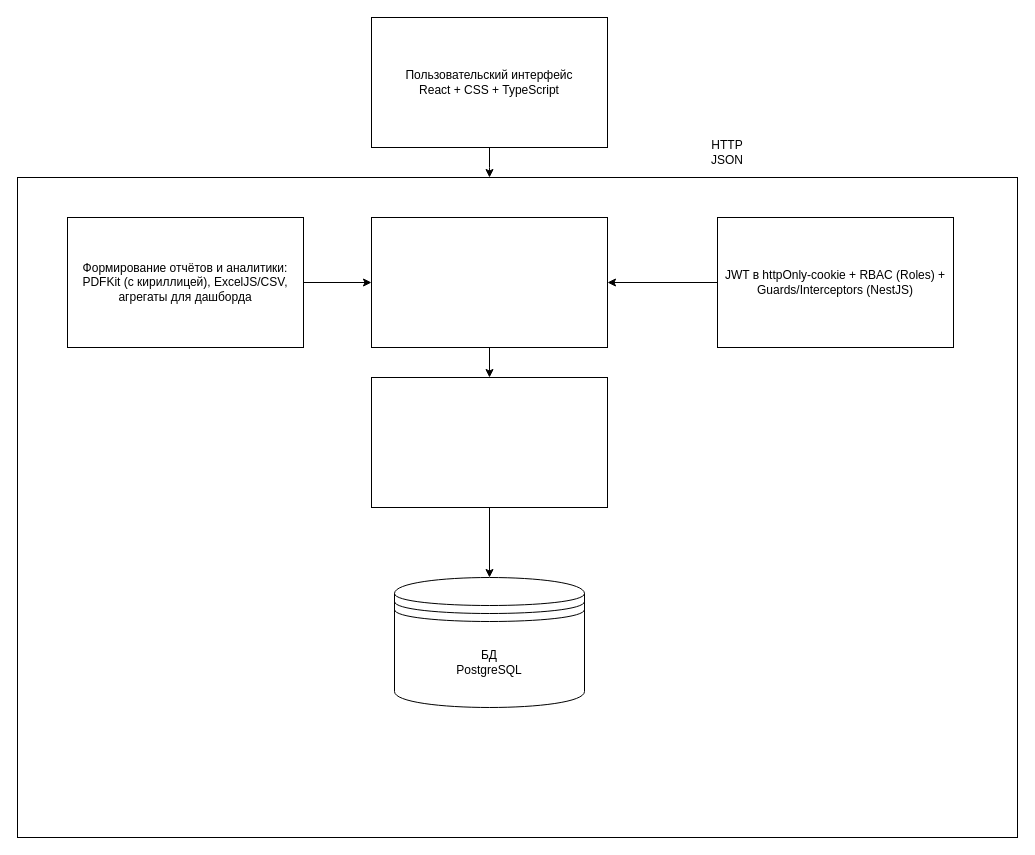
Image size: 1035x855. Some labels were removed from this diagram. The shapes that lost their labels are listed below. From the top down, each one's box as (x1, y1, x2, y2) in pixels, then its label:
(370, 216, 608, 348): REST API (NestJS)
(370, 376, 608, 508): PRISMA ORM
